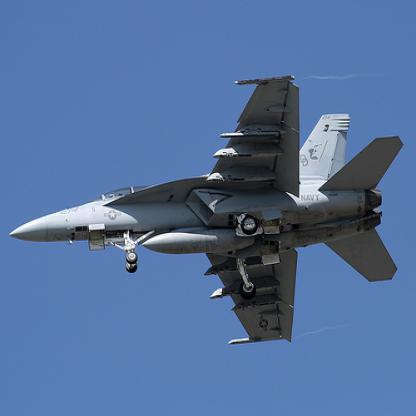aeroplane: (8, 76, 404, 346)
